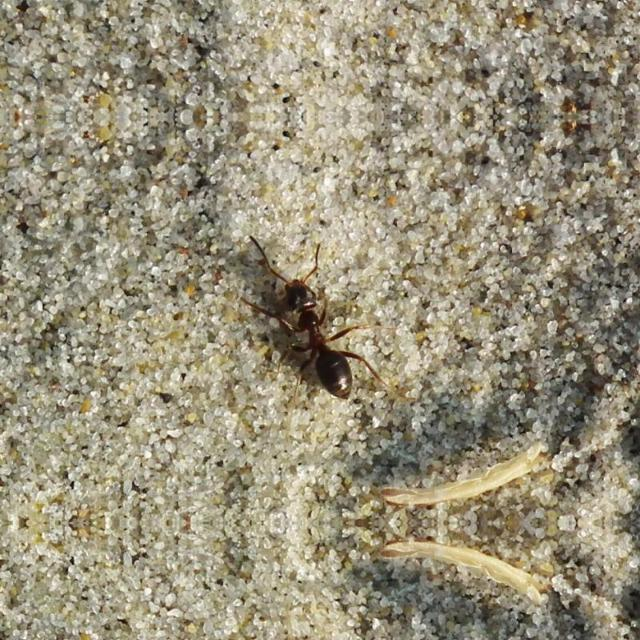Lasius: (235, 237, 398, 405)
